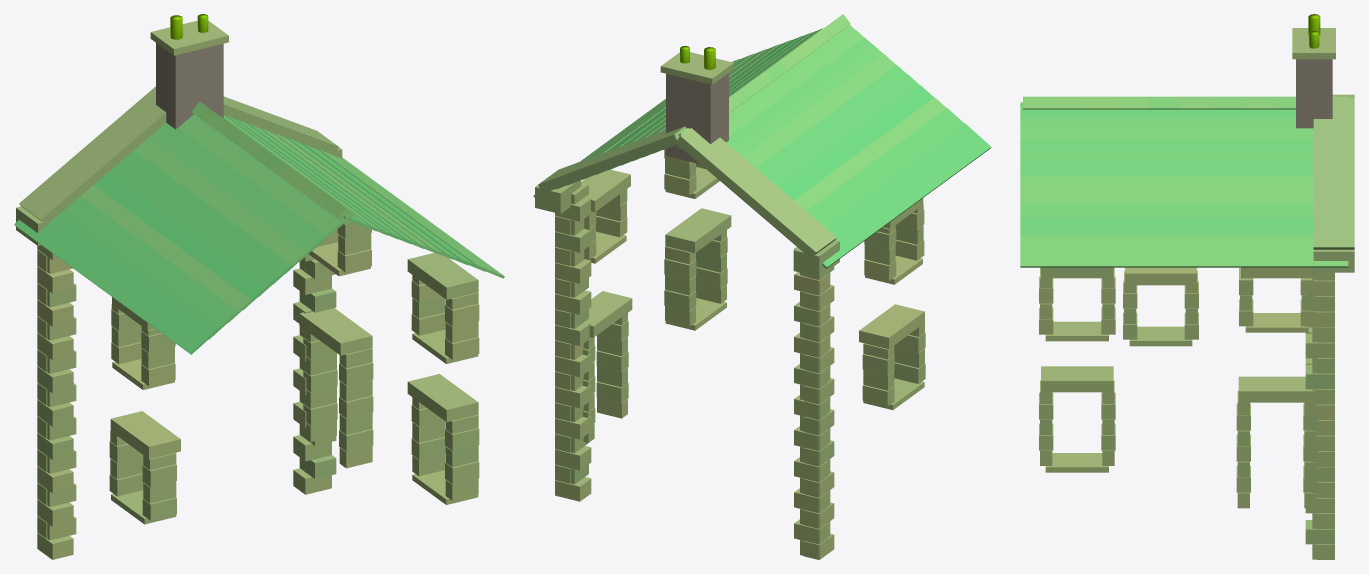
Rendered from SM_Bld_241_Stone.glb.
The picture shows the model from 3 angles, left to right: view 1: azimuth 30°, elevation 25°; view 2: azimuth 150°, elevation 25°; view 3: azimuth 270°, elevation 25°; orthographic projection. The views are drawn at different scales.
Parts seen in each view (by area): view 1: SM_Bld_241_Stone; view 2: SM_Bld_241_Stone; view 3: SM_Bld_241_Stone.
Boxes of the visible parts, left/top/right/bottom form: SM_Bld_241_Stone: left=14, top=14, right=504, bottom=559; SM_Bld_241_Stone: left=533, top=14, right=991, bottom=559; SM_Bld_241_Stone: left=1020, top=14, right=1354, bottom=559.
Bounding box in the file's own units: 5.93 × 9.14 × 5.86.
